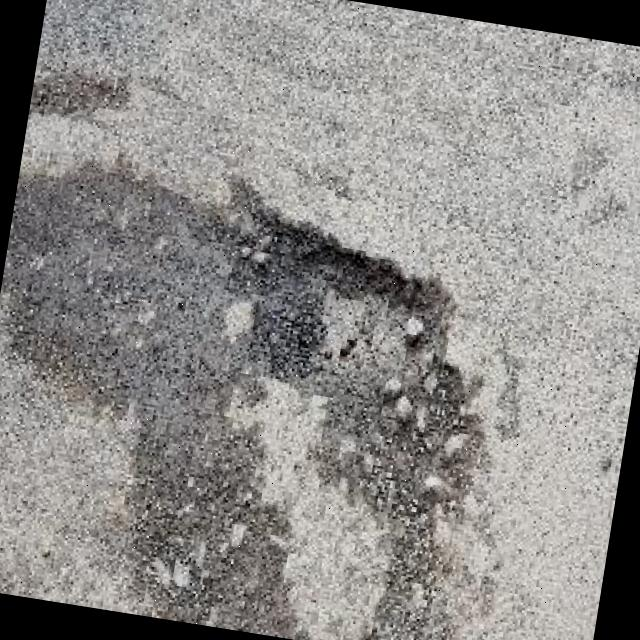stagnation: (0, 147, 535, 640)
